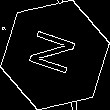N_E: (26, 28, 84, 82)
